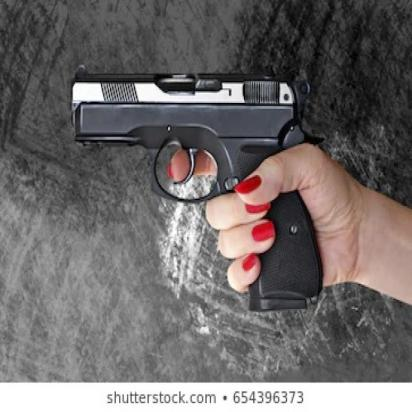Gun: (67, 61, 326, 314)
